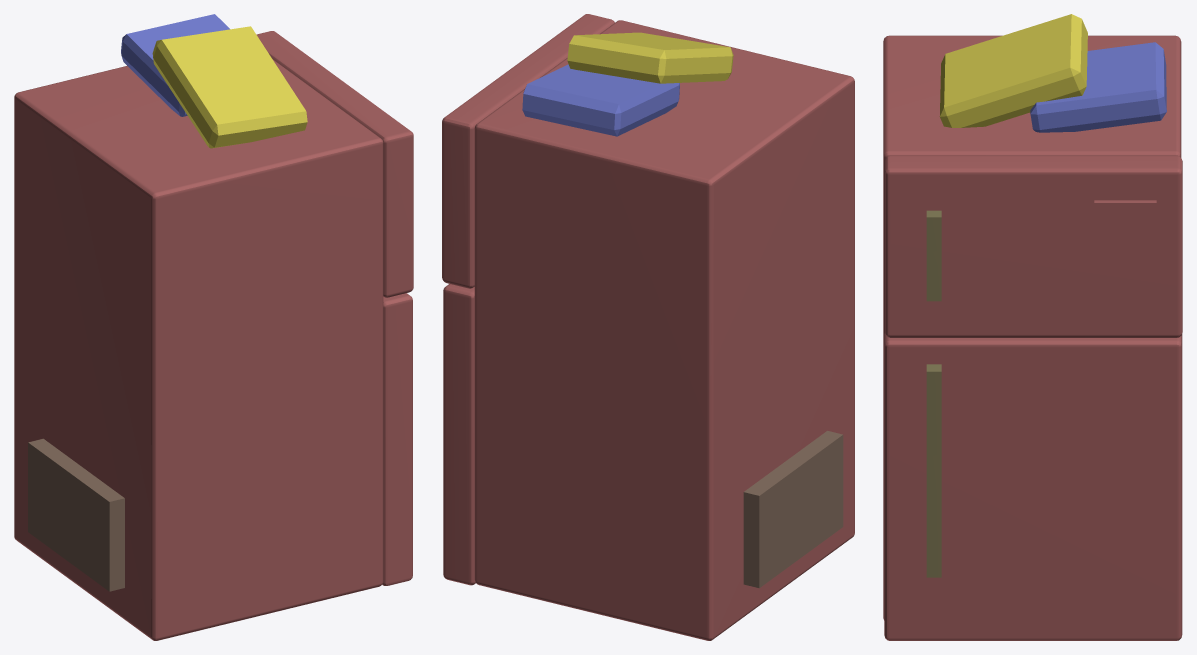
File: fridge.fbx
3 renders of one model, left to right at view 1: azimuth 30°, elevation 25°; view 2: azimuth 150°, elevation 25°; view 3: azimuth 270°, elevation 25°, orthographic. The views are drawn at different scales.
Visible parts, largest first — view 1: pCube2, pasted__pCube22, pCube7, pCube3, pCube1, pasted__pCube23; view 2: pCube2, pCube7, pCube3, pCube1, pasted__pCube23, pasted__pCube22; view 3: pCube1, pCube3, pCube2, pasted__pCube22, pasted__pCube23, pCube4, pCube6, pCube5.
Part boxes in pixels (x1,y1,x2,y2): pCube2: [14, 59, 383, 640]; pasted__pCube22: [152, 26, 307, 148]; pCube7: [28, 438, 124, 591]; pCube3: [256, 31, 413, 297]; pCube1: [382, 293, 412, 585]; pasted__pCube23: [121, 14, 229, 116]; pCube2: [474, 20, 854, 640]; pCube7: [743, 431, 843, 588]; pCube3: [442, 14, 614, 288]; pCube1: [443, 284, 475, 585]; pasted__pCube23: [522, 64, 679, 136]; pasted__pCube22: [567, 32, 733, 83]; pCube1: [884, 333, 1182, 640]; pCube3: [885, 156, 1182, 337]; pCube2: [883, 35, 1181, 620]; pasted__pCube22: [939, 14, 1087, 127]; pasted__pCube23: [1030, 42, 1166, 132]; pCube4: [926, 364, 941, 577]; pCube6: [1094, 200, 1156, 231]; pCube5: [926, 210, 941, 301].
Size of the model in its own units: 4.95 by 8.4 by 4.18.
